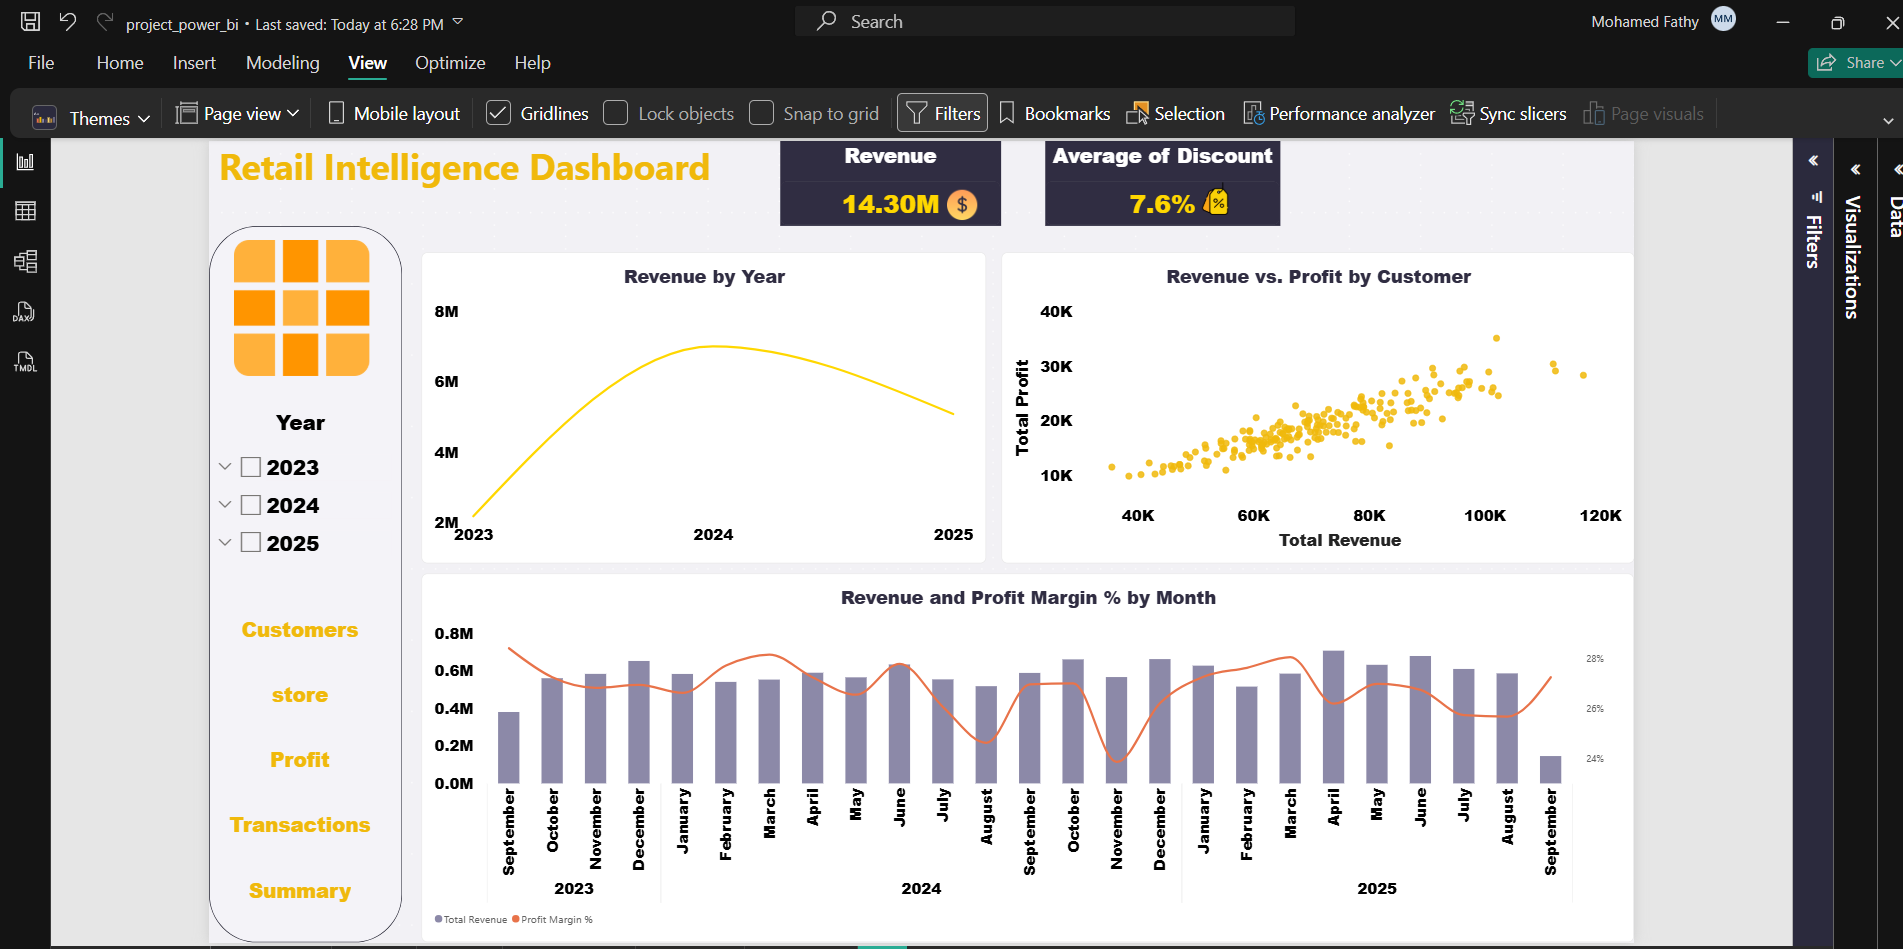

Layout of this report page (visuals, bound fields, positions):
{"tool":"powerbi","page":{"name":"Revenue","canvas":[1920,1080],"ordinal":4},"visuals":[{"type":"lineStackedColumnComboChart","title":"Revenue and Profit Margin % by Month","fields":{"Category":["Transactions.Date.Variation.Date Hierarchy.Year","Transactions.Date.Variation.Date Hierarchy.Month"],"Y":["Transactions.revenue"],"Y2":["Transactions.Profit Margin %"]},"box":[286.2,583.4,1633.8,496.6],"z":0},{"type":"textbox","box":[0,0,773,81],"z":1000},{"type":"scatterChart","title":"Revenue vs. Profit by Customer","fields":{"Category":["Customers.CustomerID"],"X":["Transactions.revenue"],"Y":["Transactions.Total Profit"]},"box":[1067.1,149.5,852.9,419.1],"z":2000},{"type":"lineChart","title":"Revenue by Year","fields":{"Category":["Transactions.Date.Variation.Date Hierarchy.Year"],"Y":["Transactions.revenue"]},"box":[286.2,149.5,760.6,419.1],"z":3000},{"type":"cardVisual","title":"Revenue","fields":{"Data":["Transactions.revenue"]},"box":[769.8,0,297.2,114.5],"z":5000},{"type":"cardVisual","title":"Average of Discount","fields":{"Data":["Transactions.Average Discount"]},"box":[1126.4,0,316.6,114.5],"z":6000},{"type":"shape","box":[0,114.5,260.3,965.5],"z":8000},{"type":"pageNavigator","box":[0,616.6,245.5,432],"z":9000},{"type":"image","box":[974.8,66.5,79.4,40.6],"z":10000},{"type":"image","box":[1320.5,55.5,70.2,44.3],"z":12000},{"type":"image","box":[33.2,107.1,182.8,234.5],"z":14000},{"type":"slicer","title":"Year","fields":{"Values":["Transactions.Date.Variation.Date Hierarchy.Year","Transactions.Date.Variation.Date Hierarchy.Month"]},"box":[0,360,245.5,208.6],"z":15000}]}

Visuals, with their boxes on the page's 1920x1080 design canvas (x1, y1, x2, y2). These are canvas units, not pixel positions in the 1903x949 screenshot, which may show the page scaled, cropped or inside an application window:
"Revenue and Profit Margin % by Month" lineStackedColumnComboChart: 286/583/1920/1080
textbox: 0/0/773/81
"Revenue vs. Profit by Customer" scatterChart: 1067/150/1920/569
"Revenue by Year" lineChart: 286/150/1047/569
"Revenue" cardVisual: 770/0/1067/114
"Average of Discount" cardVisual: 1126/0/1443/114
shape: 0/114/260/1080
pageNavigator: 0/617/246/1049
image: 975/66/1054/107
image: 1320/56/1391/100
image: 33/107/216/342
"Year" slicer: 0/360/246/569
